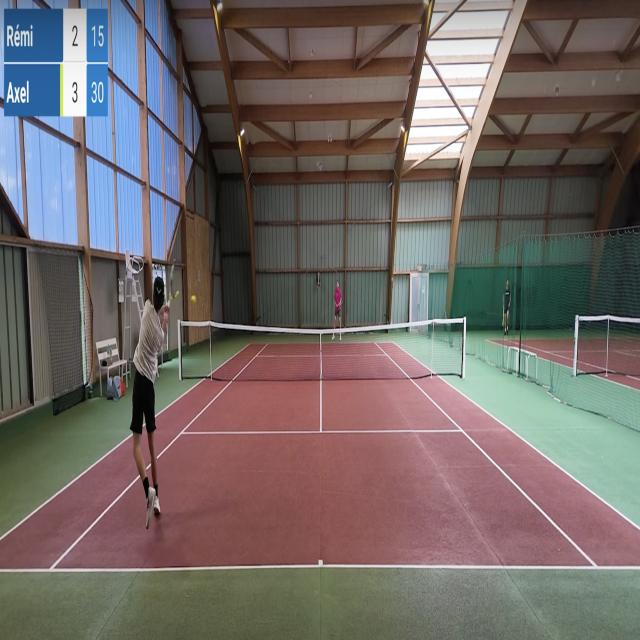ball: (191, 296, 197, 306)
